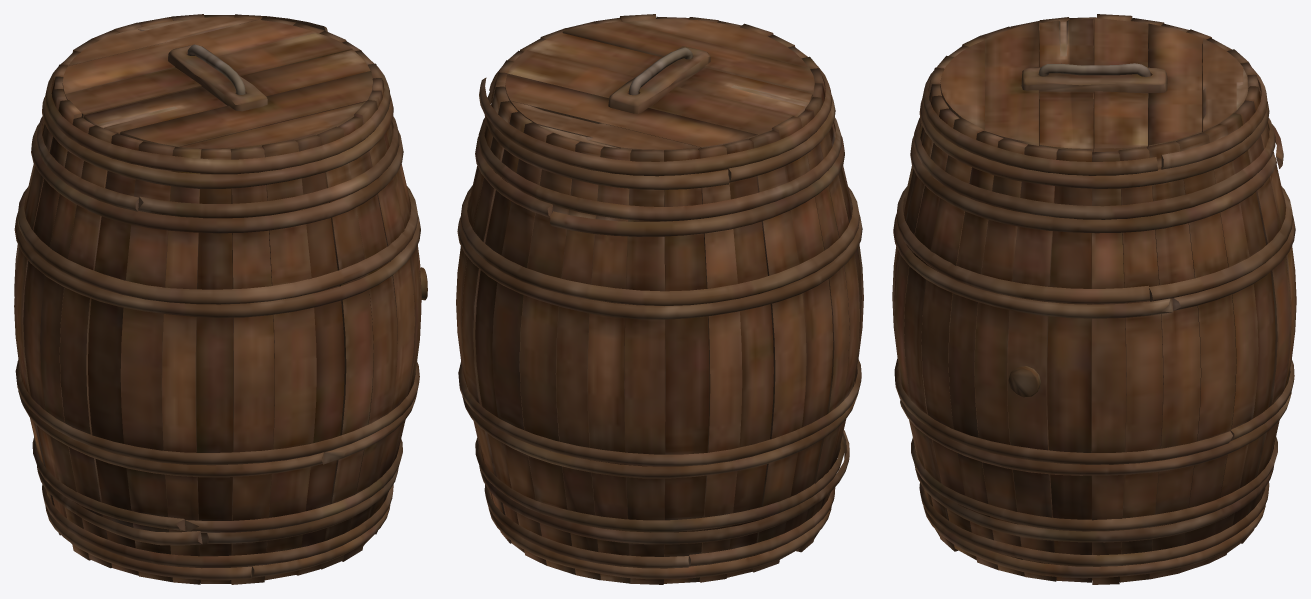
Rendered from fass2.glb.
3 views of the same model, side by side, from view 1: azimuth 30°, elevation 25°; view 2: azimuth 150°, elevation 25°; view 3: azimuth 270°, elevation 25° (orthographic).
Visible parts, largest first — view 1: wooden_barrels_01_barrel02; view 2: wooden_barrels_01_barrel02; view 3: wooden_barrels_01_barrel02.
Boxes of the visible parts, bbox=[...] form: wooden_barrels_01_barrel02: bbox=[14, 14, 427, 584]; wooden_barrels_01_barrel02: bbox=[456, 14, 863, 584]; wooden_barrels_01_barrel02: bbox=[892, 14, 1296, 584].
Bounding box in the file's own units: 0.743 × 0.9199 × 0.743.
Materials: 1 (1 with a texture image).
